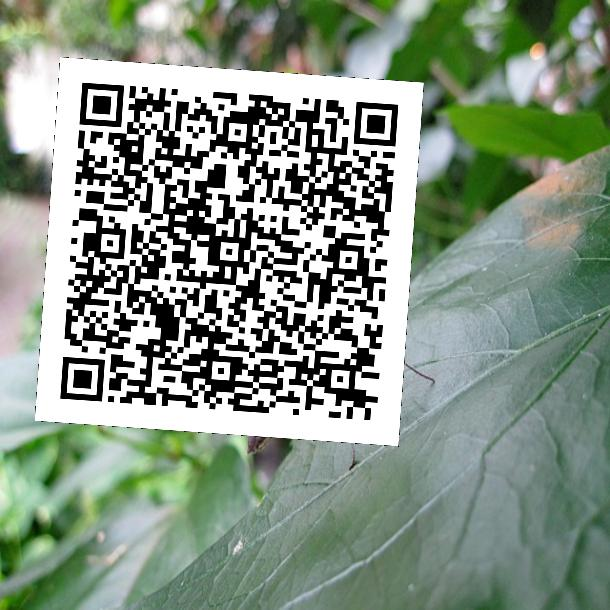qr_code: (35, 57, 423, 446)
